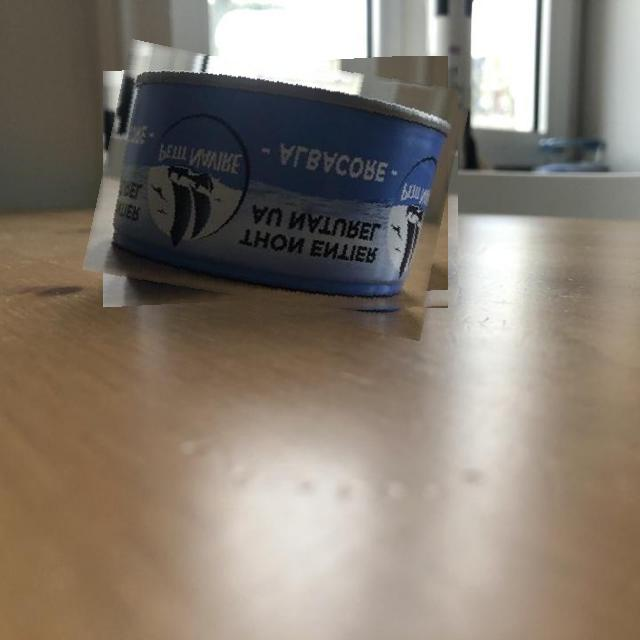recyclable: (93, 56, 458, 324)
